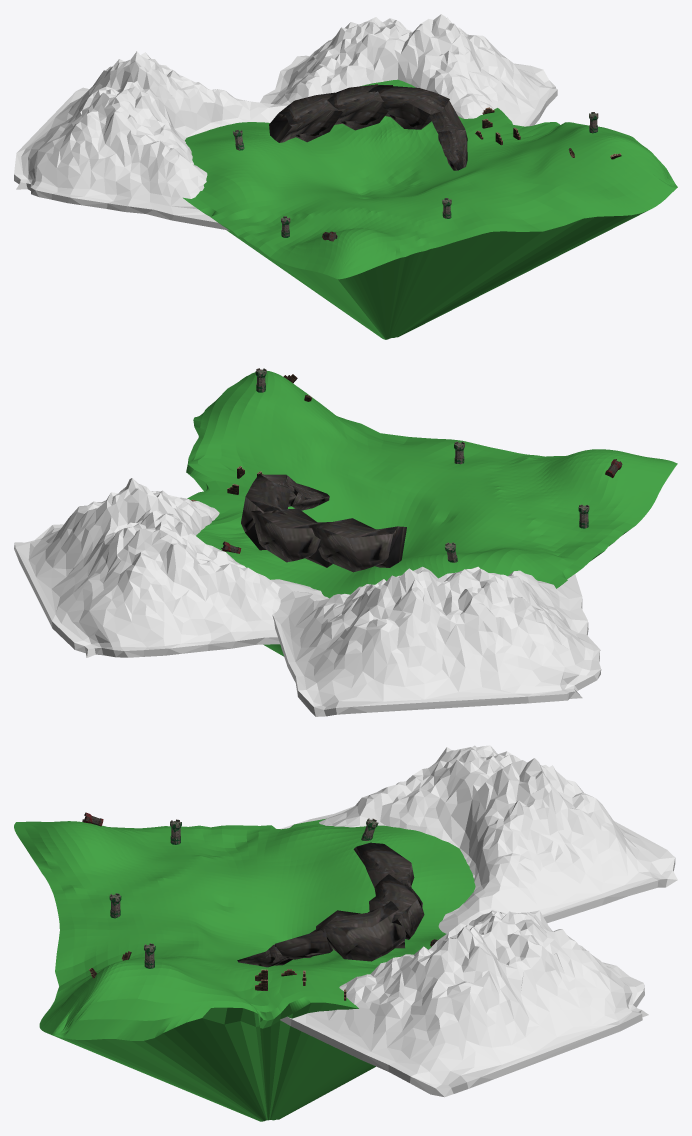
Rendered from IslandMap.fbx.
3 renders of one model, top to bottom at view 1: azimuth 30°, elevation 25°; view 2: azimuth 150°, elevation 25°; view 3: azimuth 270°, elevation 25°, orthographic. The views are drawn at different scales.
Visible parts, largest first — view 1: Island_top, Landscape.002, Landscape.001, Island_bot, Mountain2.003, Mountain2, Mountain2.001, Mountain1, Mountain1.002; view 2: Island_top, Landscape.002, Landscape.001, Mountain2.003, Mountain2.001, Mountain2, Mountain1; view 3: Island_top, Landscape.001, Landscape.002, Island_bot, Mountain2, Mountain2.001, Mountain2.003, Mountain1.002, Mountain1.
Part boxes in pixels (x1,y1,x2,y2): Island_top: [183, 79, 677, 279]; Landscape.002: [14, 51, 288, 230]; Landscape.001: [260, 14, 557, 126]; Island_bot: [201, 211, 646, 339]; Mountain2.003: [269, 92, 342, 142]; Mountain2: [367, 85, 449, 129]; Mountain2.001: [327, 85, 392, 130]; Mountain1: [438, 130, 467, 170]; Mountain1.002: [429, 100, 465, 133]; Island_top: [186, 371, 677, 598]; Landscape.002: [271, 566, 601, 716]; Landscape.001: [14, 478, 280, 657]; Mountain2.003: [308, 518, 406, 572]; Mountain2.001: [251, 508, 332, 567]; Mountain2: [241, 474, 290, 550]; Mountain1: [285, 475, 329, 510]; Island_top: [14, 818, 475, 1040]; Landscape.001: [280, 910, 648, 1097]; Landscape.002: [280, 745, 677, 933]; Island_bot: [16, 822, 375, 1121]; Mountain2: [316, 901, 406, 961]; Mountain2.001: [369, 874, 424, 939]; Mountain2.003: [353, 842, 414, 887]; Mountain1.002: [274, 929, 332, 959]; Mountain1: [237, 944, 292, 967].
Size of the model in its own units: 95342 by 41527 by 89434.
